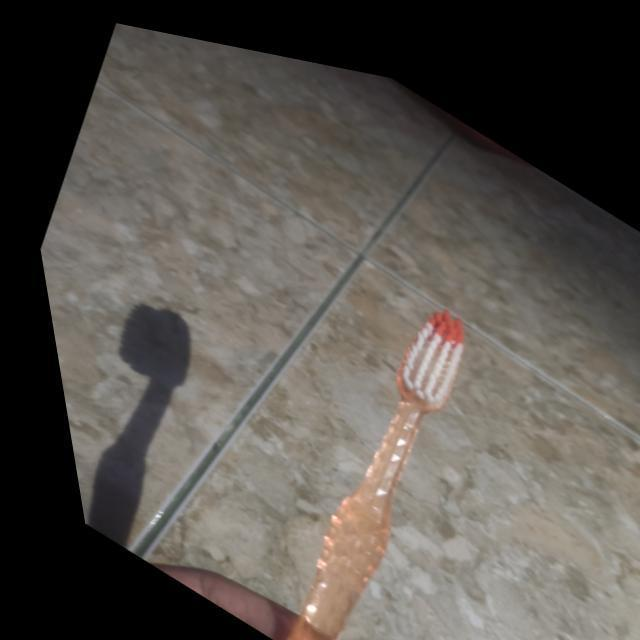toothbrush: (172, 202, 544, 640)
